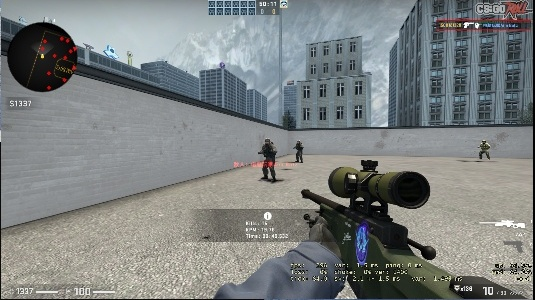body: (258, 137, 278, 181), (477, 140, 491, 159), (294, 140, 304, 164)
head: (265, 138, 270, 145), (481, 140, 486, 145), (296, 140, 300, 145)
